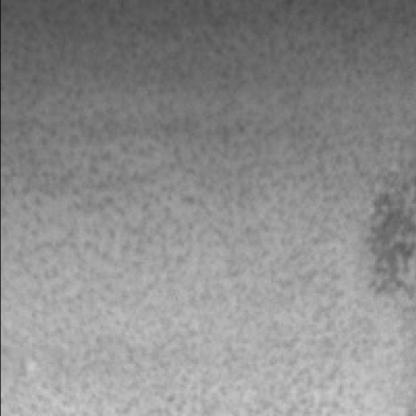pitted_surface: (4, 4, 416, 416), (366, 160, 416, 304)
